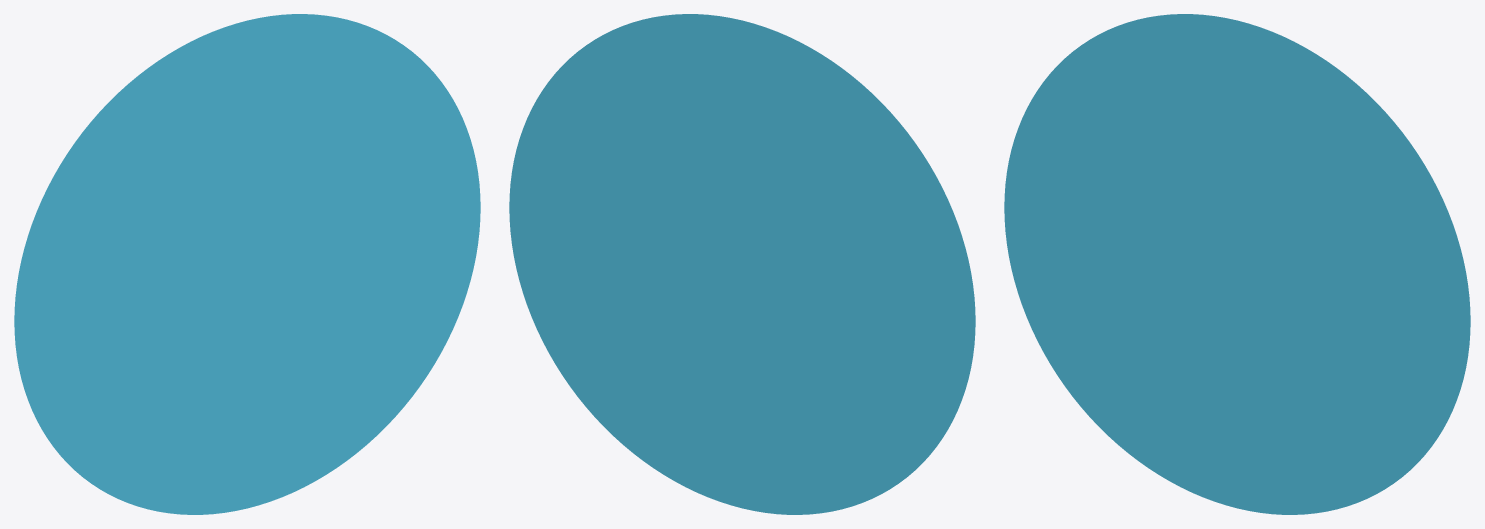
File: hand.gemacht WebApp cv marker category.glb
The picture shows the model from 3 angles, left to right: view 1: azimuth 30°, elevation 25°; view 2: azimuth 150°, elevation 25°; view 3: azimuth 330°, elevation 25°; orthographic projection.
Visible parts, largest first — view 1: cv marker category; view 2: cv marker category; view 3: cv marker category.
Boxes of the visible parts, box(x1,y1,x2,y2) form: cv marker category: box(14, 14, 480, 514); cv marker category: box(509, 14, 975, 514); cv marker category: box(1004, 14, 1470, 514).
Bounding box in the file's own units: 0.0199 × 0.0199 × 0.
